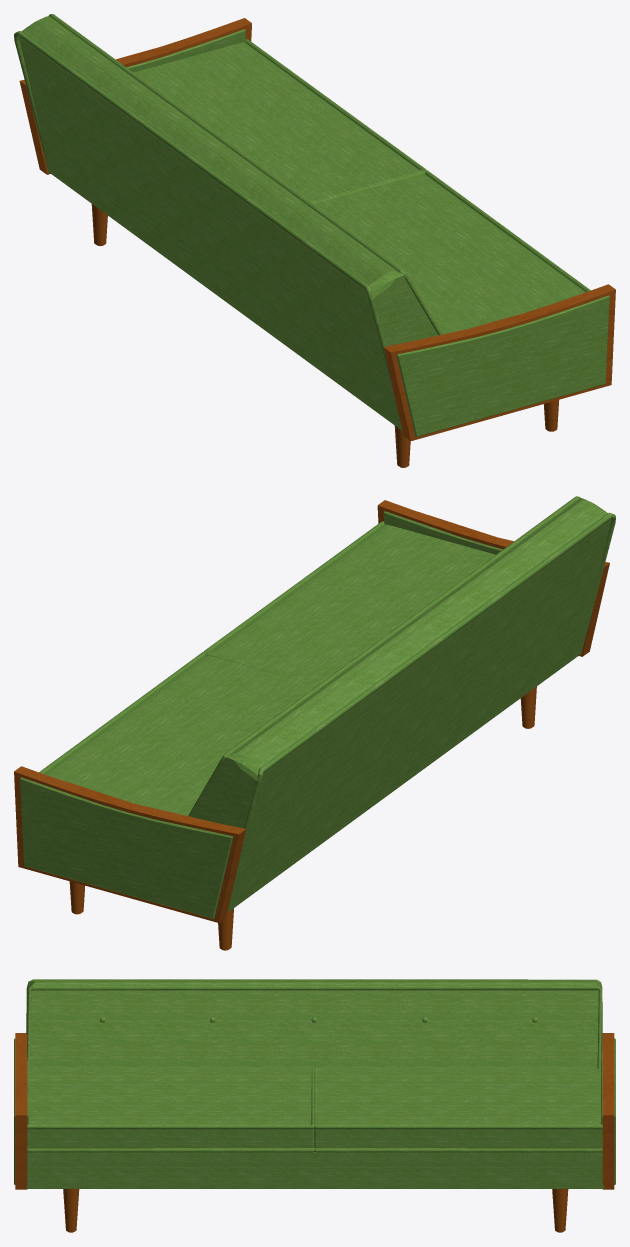
Rendered from Tyler6git.glb.
The picture shows the model from 3 angles, top to bottom: view 1: azimuth 30°, elevation 25°; view 2: azimuth 150°, elevation 25°; view 3: azimuth 270°, elevation 25°; orthographic projection. The views are drawn at different scales.
Parts seen in each view (by area): view 1: Cylinder.005, Cylinder.001; view 2: Cylinder.005, Cylinder.001; view 3: Cylinder.005, Cylinder.001.
Boxes of the visible parts, x1,y1,x2,y2 form: Cylinder.005: [14, 14, 609, 436]; Cylinder.001: [19, 18, 615, 467]; Cylinder.005: [20, 496, 615, 918]; Cylinder.001: [14, 500, 609, 950]; Cylinder.005: [14, 979, 615, 1188]; Cylinder.001: [15, 1033, 614, 1232].
Size of the model in its own units: 1.01 by 0.8843 by 2.72.
2 materials, 2 textured.
